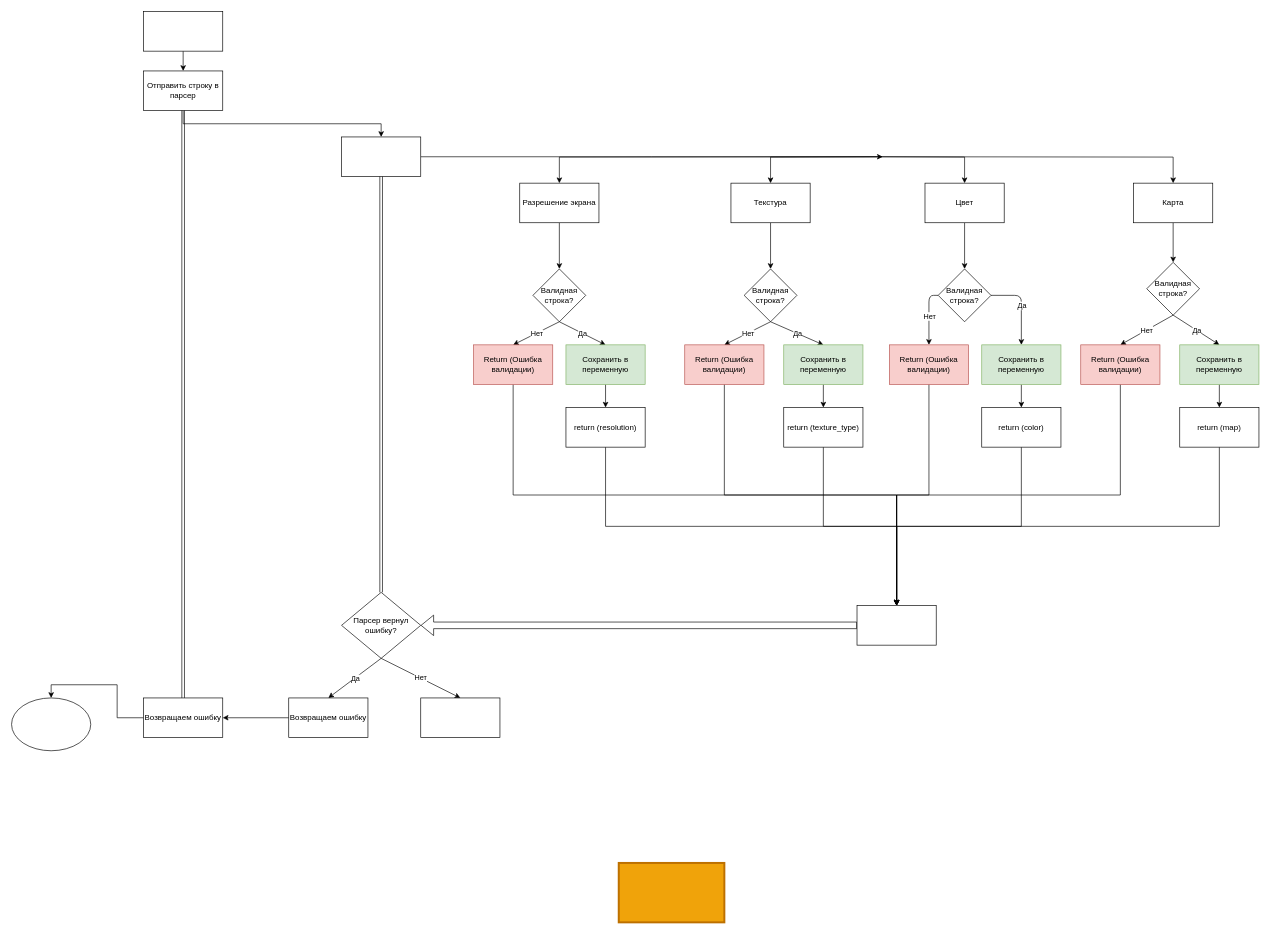
This 1271x935 diagram has some shape labels left out. Here are the shapes that lost their labels. From the top down, the centre of each, then its label:
At pixel 183 31: "Прочитать строку из файла".
At pixel 381 156: "Определить тип строки и отправить в нужный парсер".
At pixel 896 625: "Ответ от конкретного парсера".
At pixel 51 724: "Выход".
At pixel 460 717: "От парсера вернулась ссылка на переменную с каким то значением".
At pixel 671 892: "Отрисовка графики. Принимает на вход большую структуру со всеми данными".
